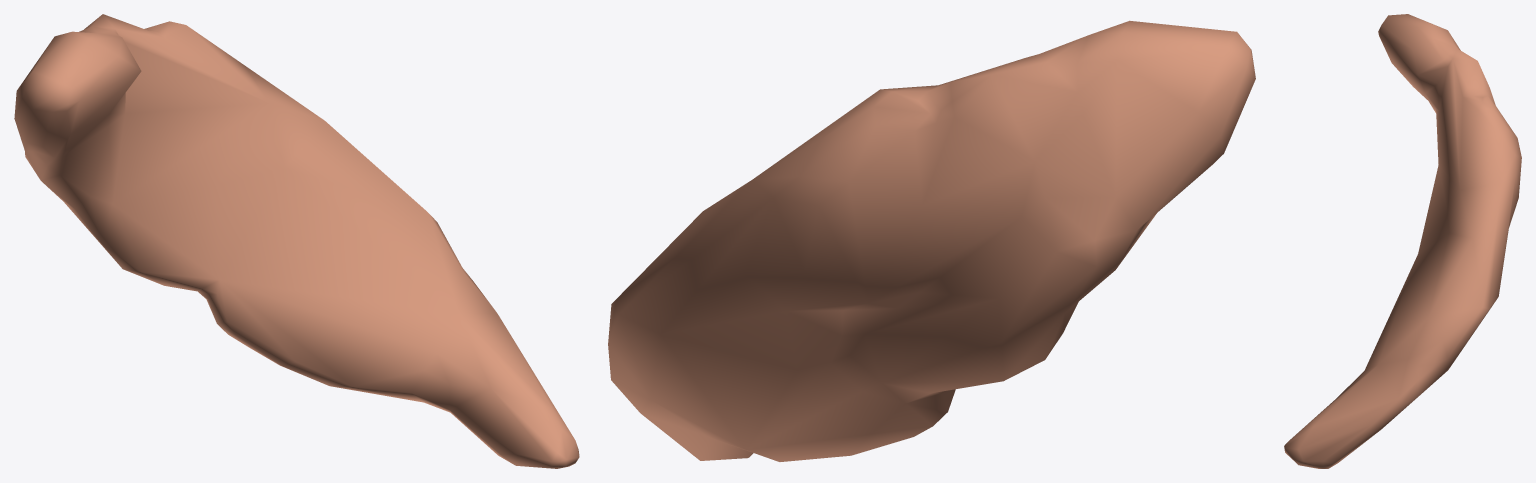
Rendered from seminal-gland-r.glb.
3 views of the same model, side by side, from view 1: azimuth 30°, elevation 25°; view 2: azimuth 150°, elevation 25°; view 3: azimuth 270°, elevation 25° (orthographic). The views are drawn at different scales.
Visible parts, largest first — view 1: Seminal gland.r; view 2: Seminal gland.r; view 3: Seminal gland.r.
Boxes of the visible parts, x1,y1,x2,y2 form: Seminal gland.r: (14,14,579,468); Seminal gland.r: (608,20,1255,461); Seminal gland.r: (1284,14,1521,468).
Bounding box in the file's own units: 0.0329 × 0.0306 × 0.021.
